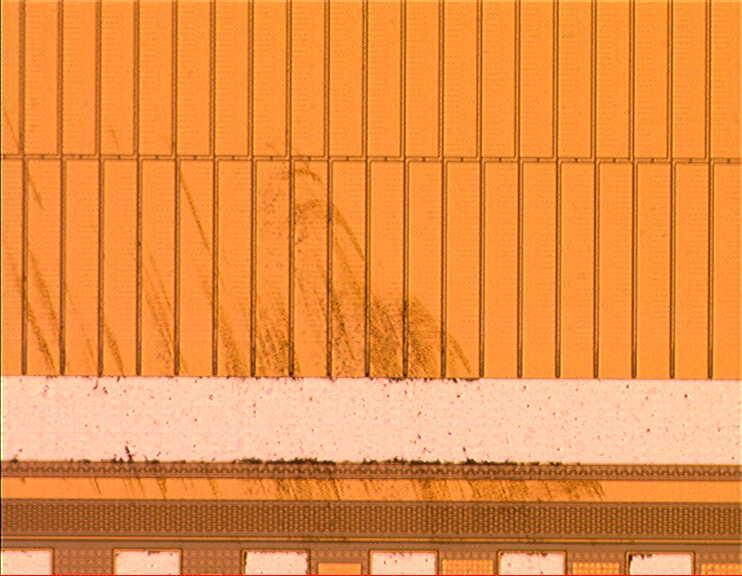SCRATCH: (1, 105, 656, 576)
